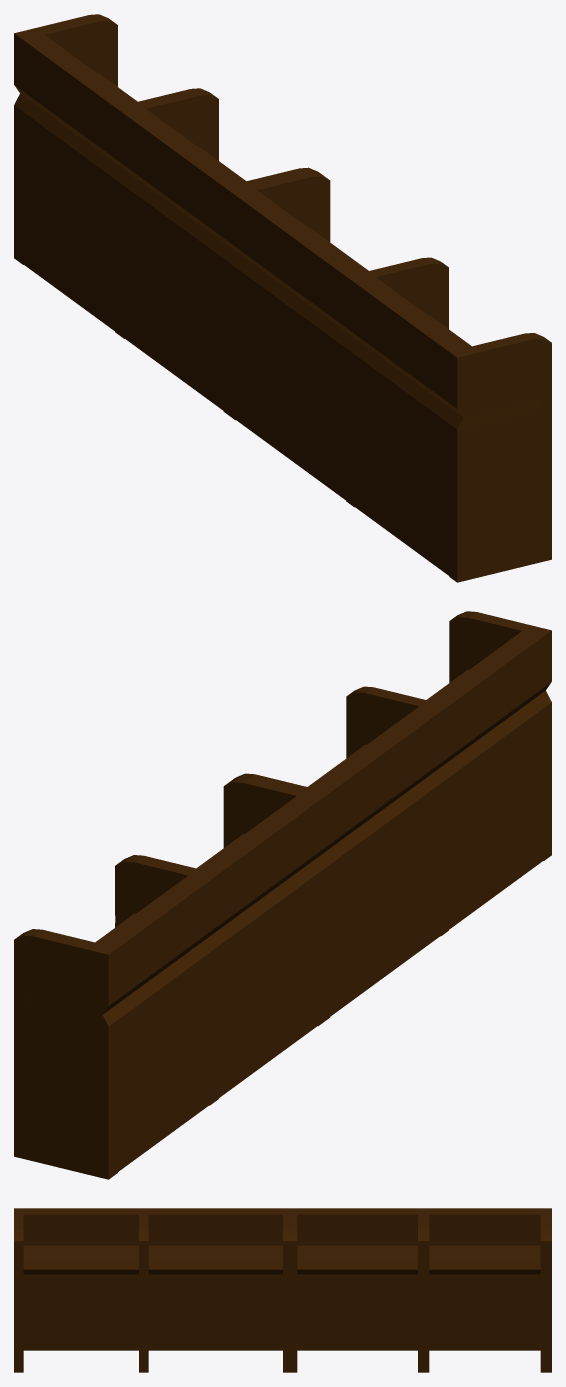
The model's file is tukue.fbx.
3 renders of one model, top to bottom at view 1: azimuth 30°, elevation 25°; view 2: azimuth 150°, elevation 25°; view 3: azimuth 270°, elevation 25°, orthographic. The views are drawn at different scales.
Visible parts, largest first — view 1: Cube.001; view 2: Cube.001; view 3: Cube.001.
Part boxes in pixels (x1,y1,x2,y2): Cube.001: [14, 14, 551, 582]; Cube.001: [14, 611, 551, 1179]; Cube.001: [14, 1208, 551, 1372].
Size of the model in its own units: 251 by 570 by 2036.
